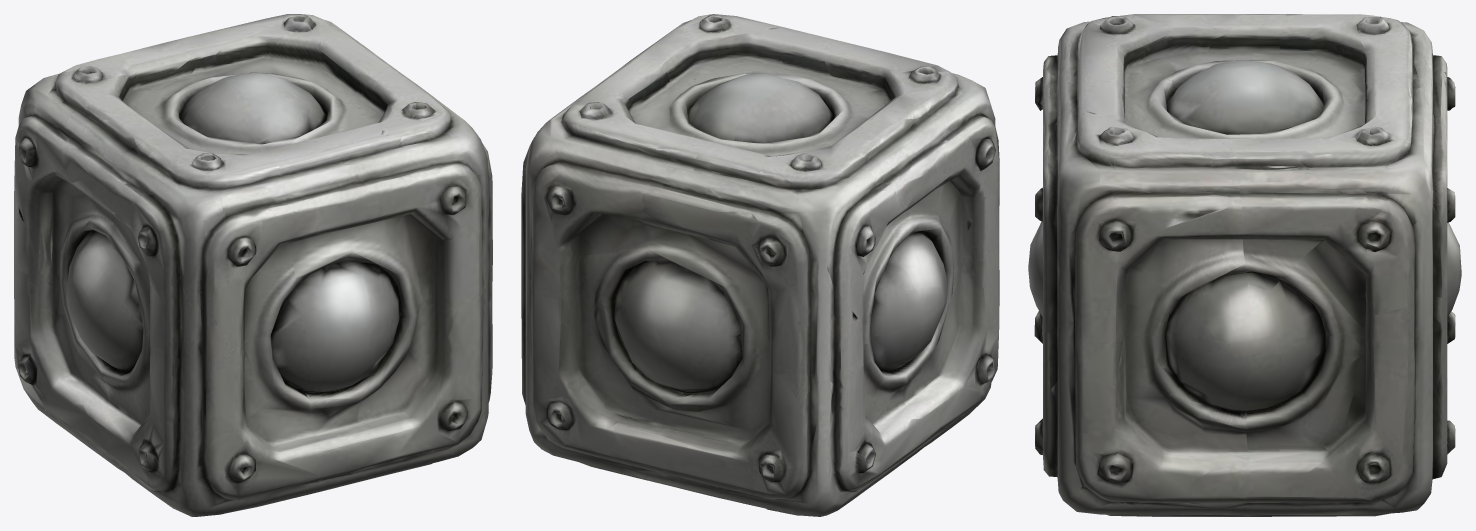
Rendered from kup.glb.
3 renders of one model, left to right at view 1: azimuth 30°, elevation 25°; view 2: azimuth 150°, elevation 25°; view 3: azimuth 270°, elevation 25°, orthographic. The views are drawn at different scales.
Visible parts, largest first — view 1: tripo_node_2ec45540-3846-4597-b177-350986769f14; view 2: tripo_node_2ec45540-3846-4597-b177-350986769f14; view 3: tripo_node_2ec45540-3846-4597-b177-350986769f14.
Part boxes in pixels (<box>): tripo_node_2ec45540-3846-4597-b177-350986769f14: <box>14,14,492,516</box>; tripo_node_2ec45540-3846-4597-b177-350986769f14: <box>521,14,999,516</box>; tripo_node_2ec45540-3846-4597-b177-350986769f14: <box>1028,14,1461,516</box>.
Bounding box in the file's own units: 0.9761 × 0.9774 × 0.9764.
Materials: 1 (1 with a texture image).
